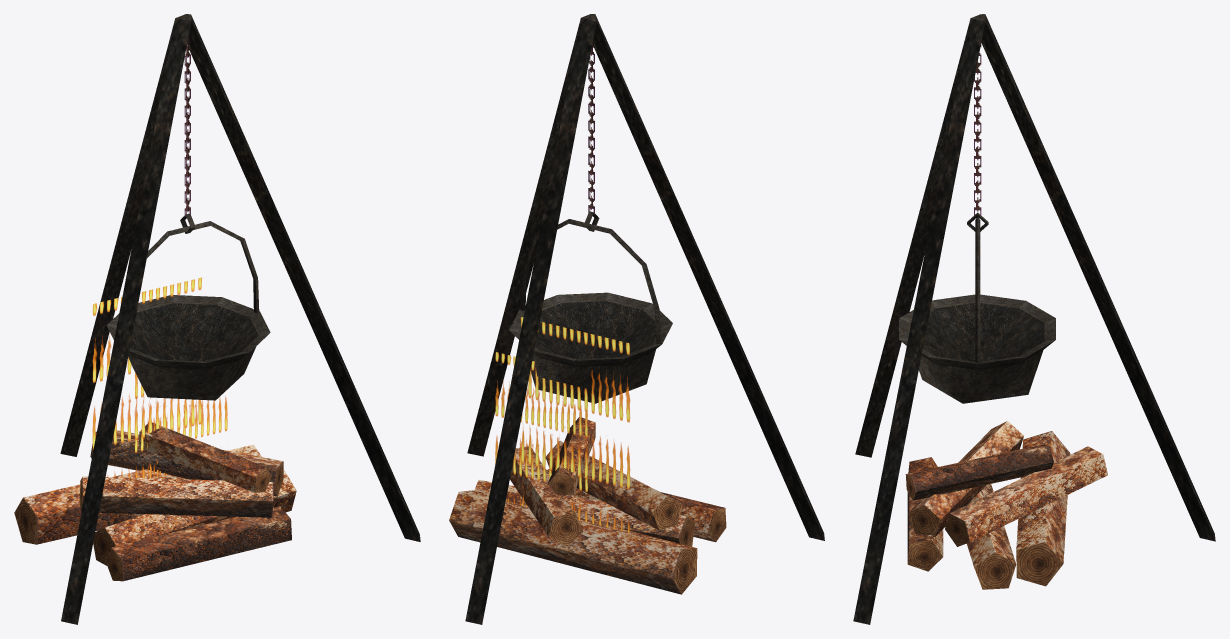
File: mm9_deco_cookpot.glb
The picture shows the model from 3 angles, left to right: view 1: azimuth 30°, elevation 25°; view 2: azimuth 150°, elevation 25°; view 3: azimuth 270°, elevation 25°; orthographic projection.
Visible parts, largest first — view 1: Cookpot; view 2: Cookpot; view 3: Cookpot.
Boxes of the visible parts, x1,y1,x2,y2 form: Cookpot: [14, 14, 420, 624]; Cookpot: [449, 14, 824, 624]; Cookpot: [853, 14, 1215, 624].
Bounding box in the file's own units: 1.27 × 1.78 × 1.11.
3 materials, 3 textured.
